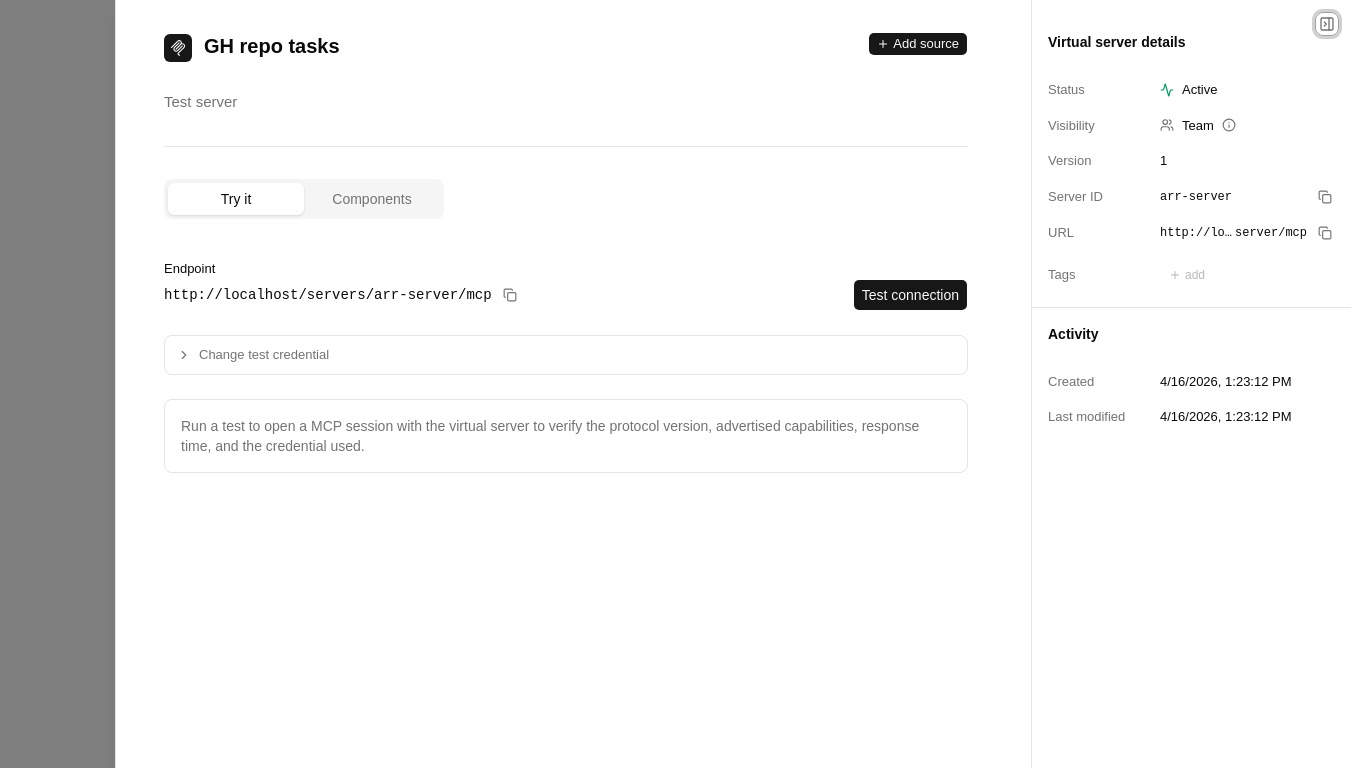
Test case: VirtualServerDetailsPanel render variants › handles component responses returned as bare arrays
Click the tab "Components".
click(372, 199)  # box [304,183,440,215]
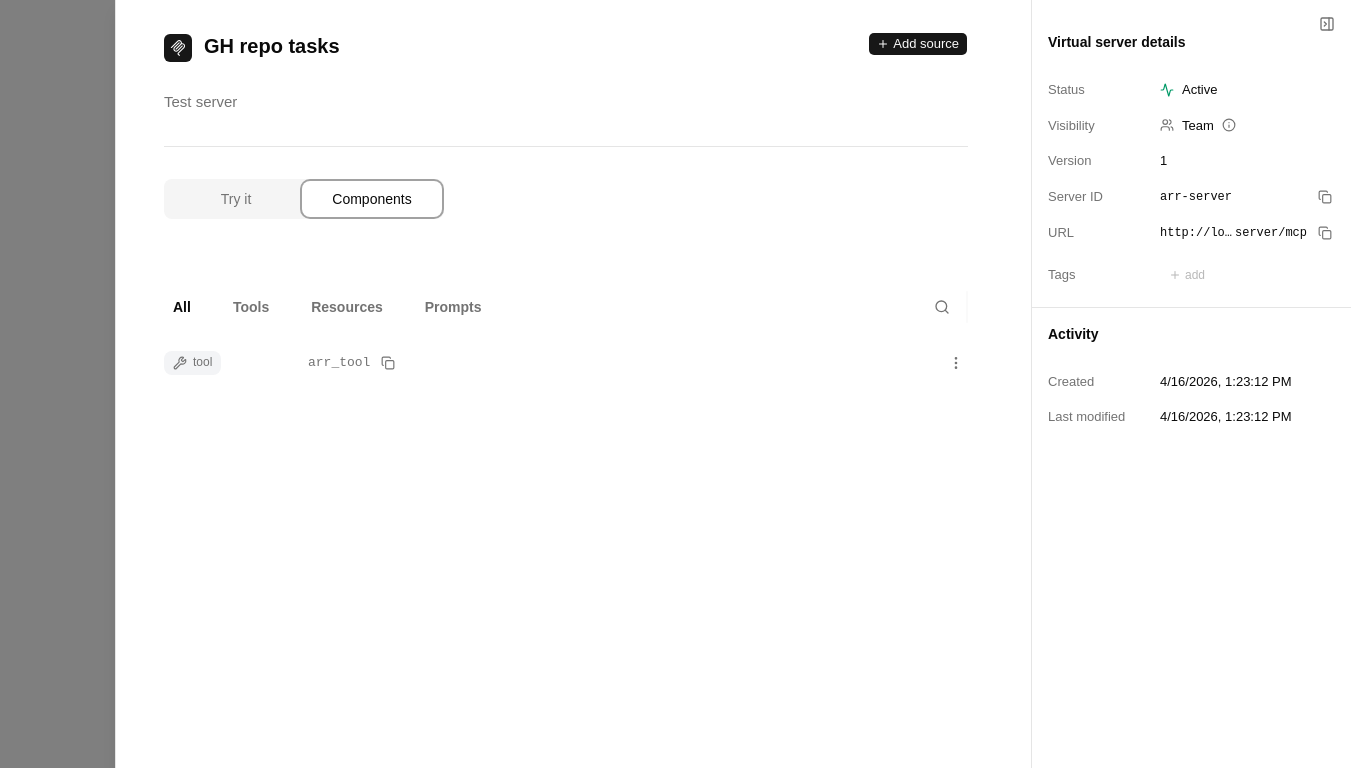
Check: the text "arr_tool" is shown, box [308,354,370,372]
